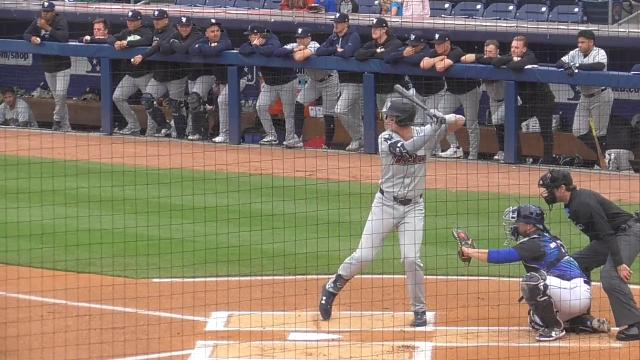bat: (394, 82, 428, 112)
